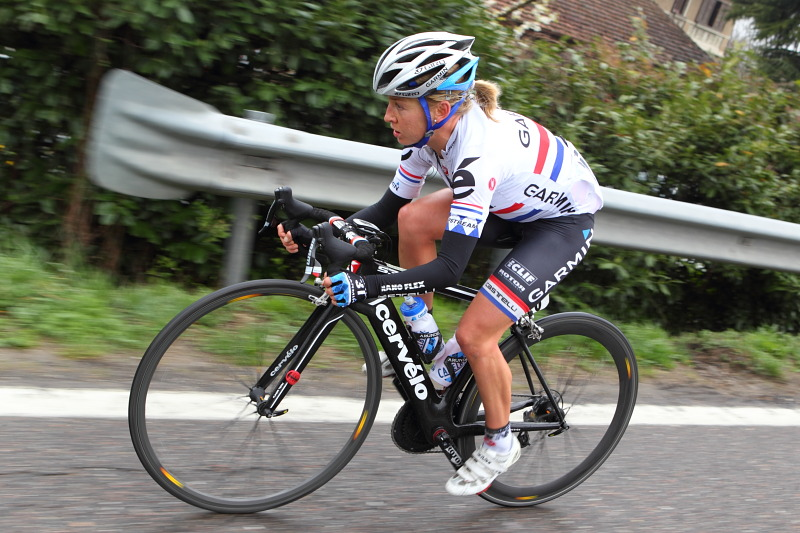helmet: (369, 30, 483, 92)
